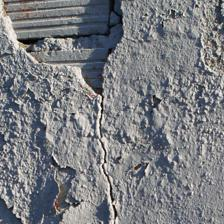Crack: (45, 48, 77, 176)
